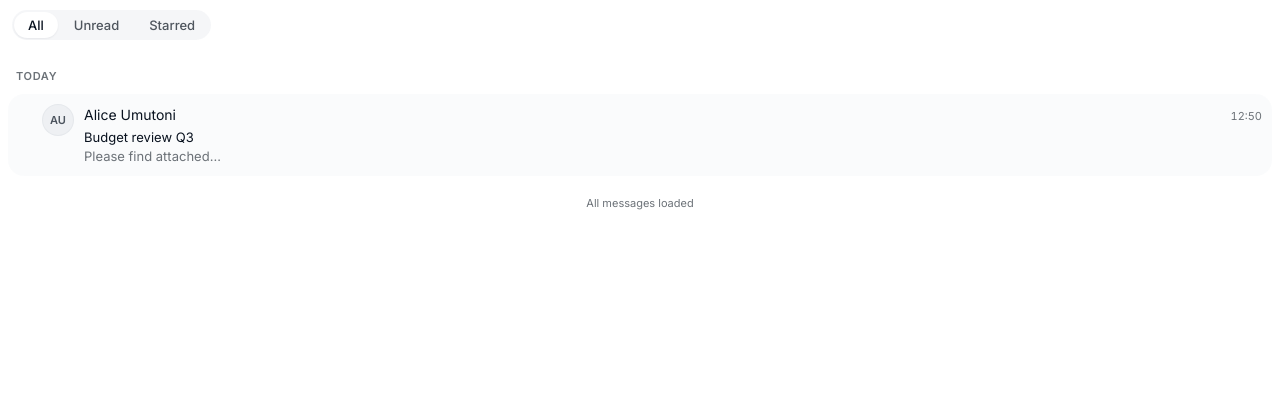
MailList context-menu "Ask about this thread" gate › shows the row when aiEnabled is true
Right-click the text "Alice Umutoni".
right_click(130, 115)  # box [84,104,176,126]
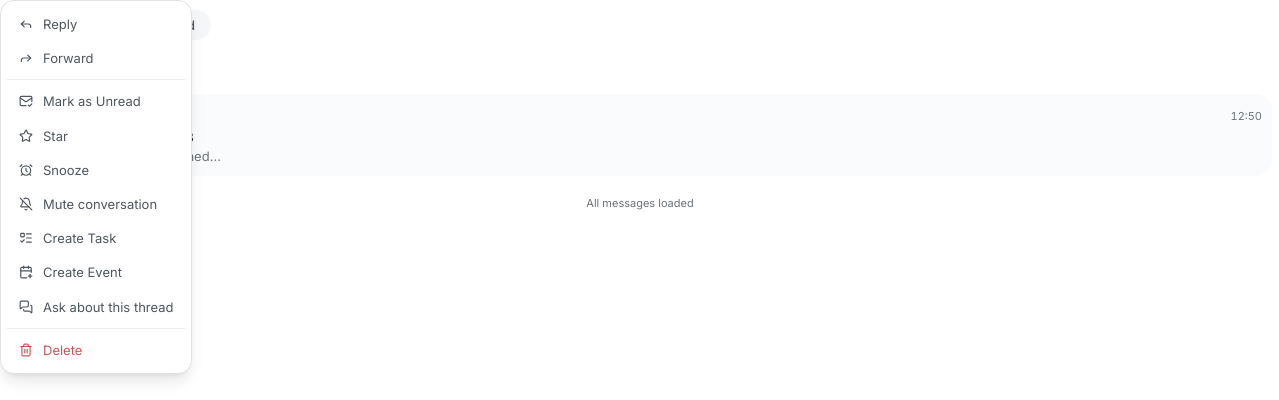
Expected: the button "Ask about this thread" is shown, [7,290,186,324]
